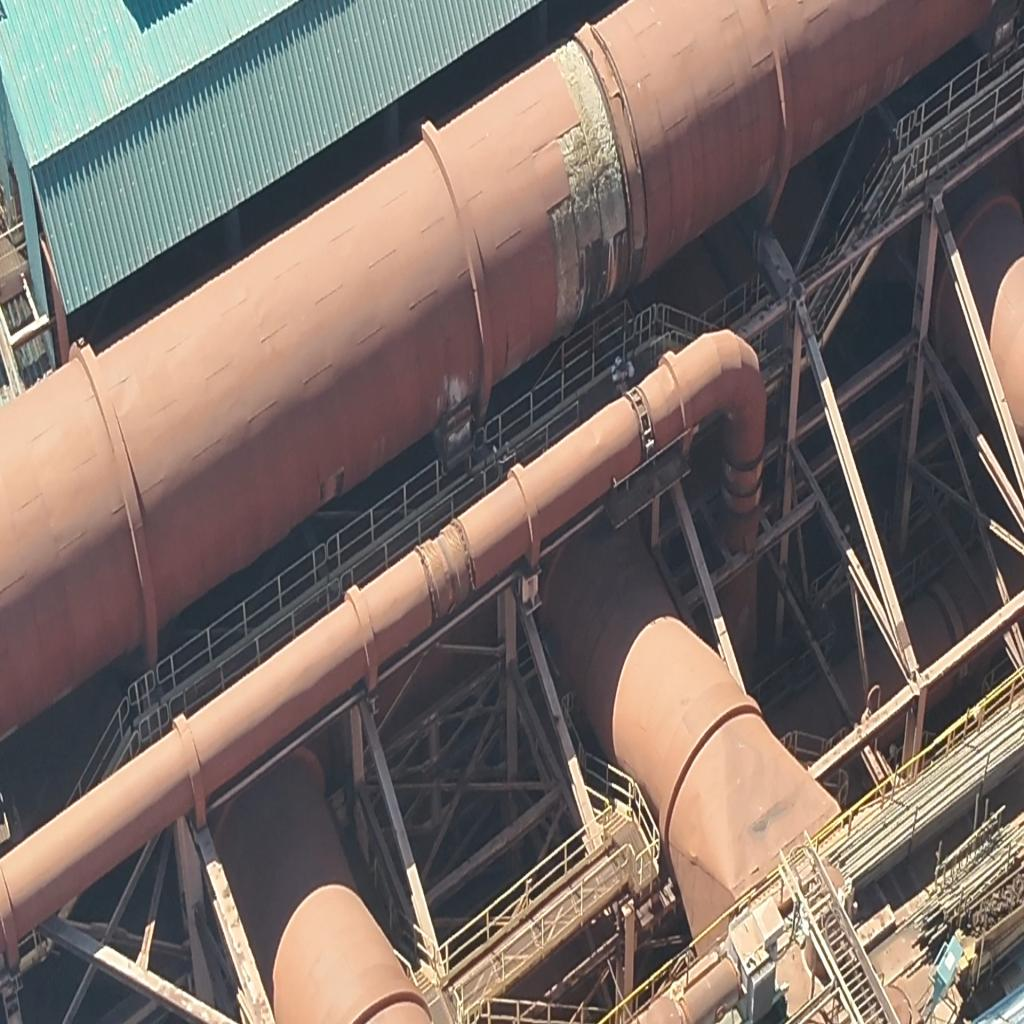Failures: (552, 33, 632, 291), (558, 122, 606, 310), (550, 194, 578, 345)
